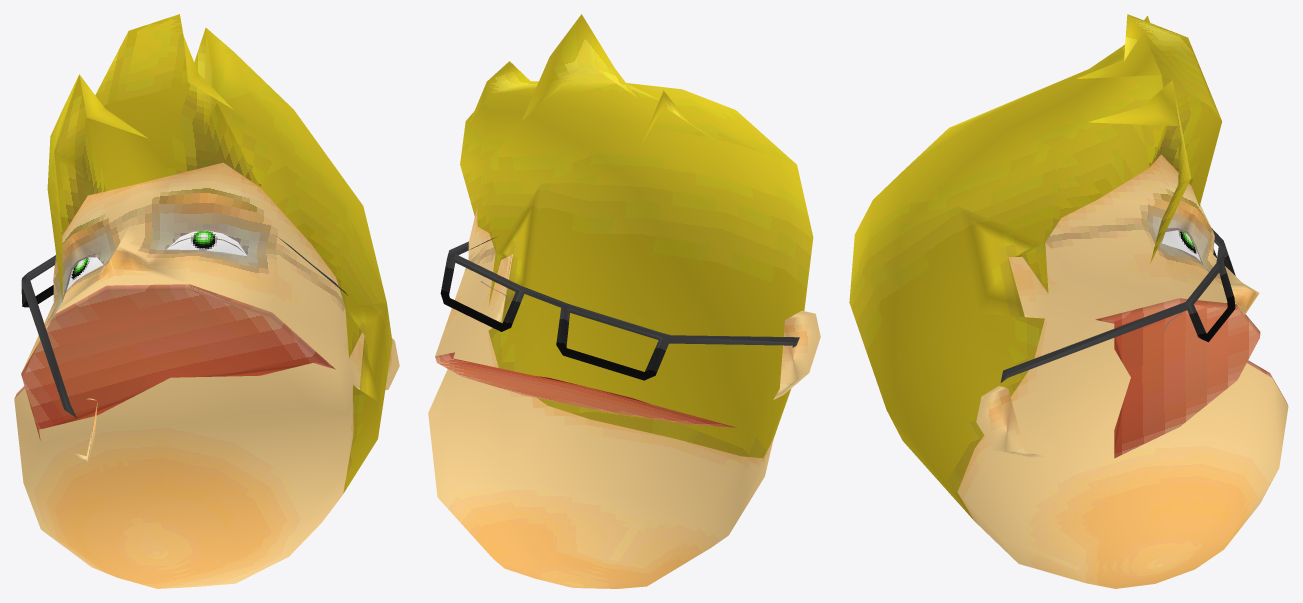
File: ps2_save-icons_buzzthepopquiz.glb
3 views of the same model, side by side, from view 1: azimuth 30°, elevation 25°; view 2: azimuth 150°, elevation 25°; view 3: azimuth 270°, elevation 25° (orthographic).
Visible parts, largest first — view 1: BZ.ico; view 2: BZ.ico; view 3: BZ.ico.
Boxes of the visible parts, box(x1,y1,x2,y2) form: BZ.ico: box(14, 14, 399, 588); BZ.ico: box(428, 14, 820, 588); BZ.ico: box(849, 14, 1288, 588).
Size of the model in its own units: 2.7 by 4.61 by 3.29.
1 material, 1 textured.
